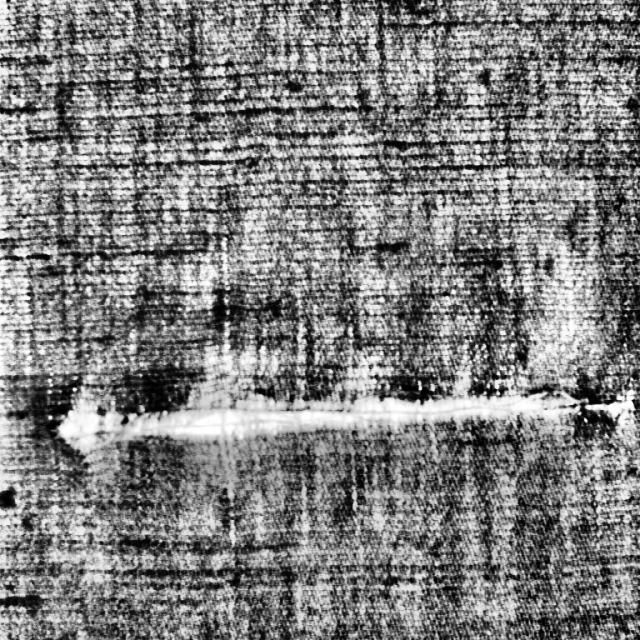Hole: (52, 370, 639, 465)
